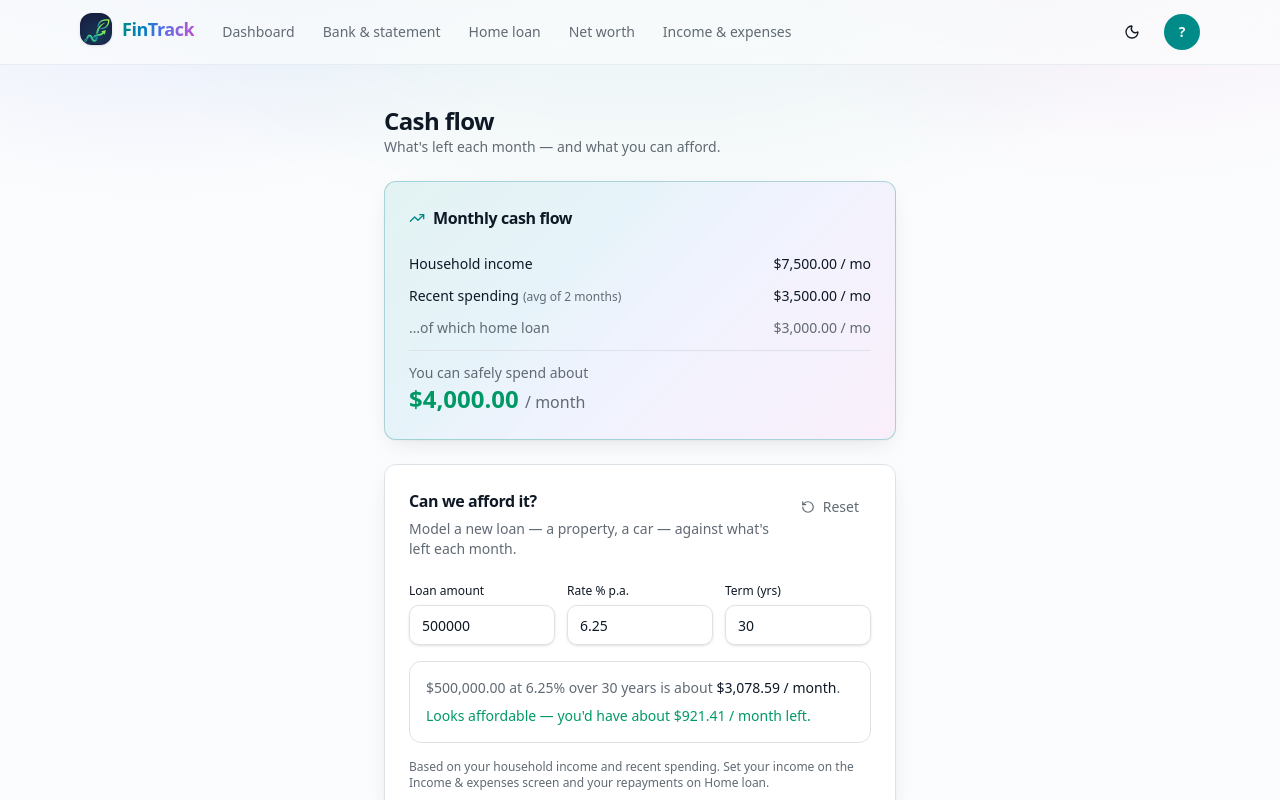
CashFlowPage › flips to "short" when the loan is too big
Replace the text in the number field labelled "Loan amount" with "1000000" at (482, 625), box top-left (409, 605), bottom-right (555, 645)
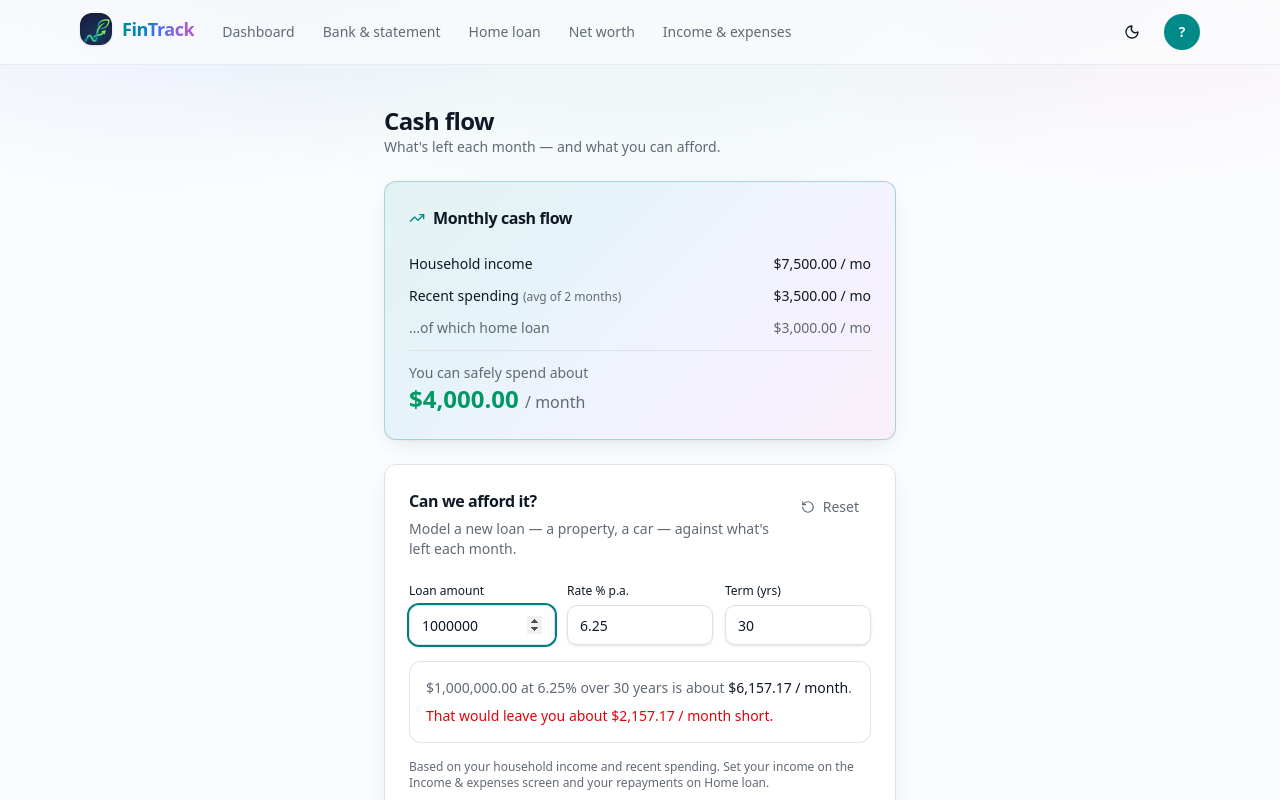
Expected: the text with test id "affordability-verdict" shows "short", top-left (426, 706), bottom-right (773, 725)
